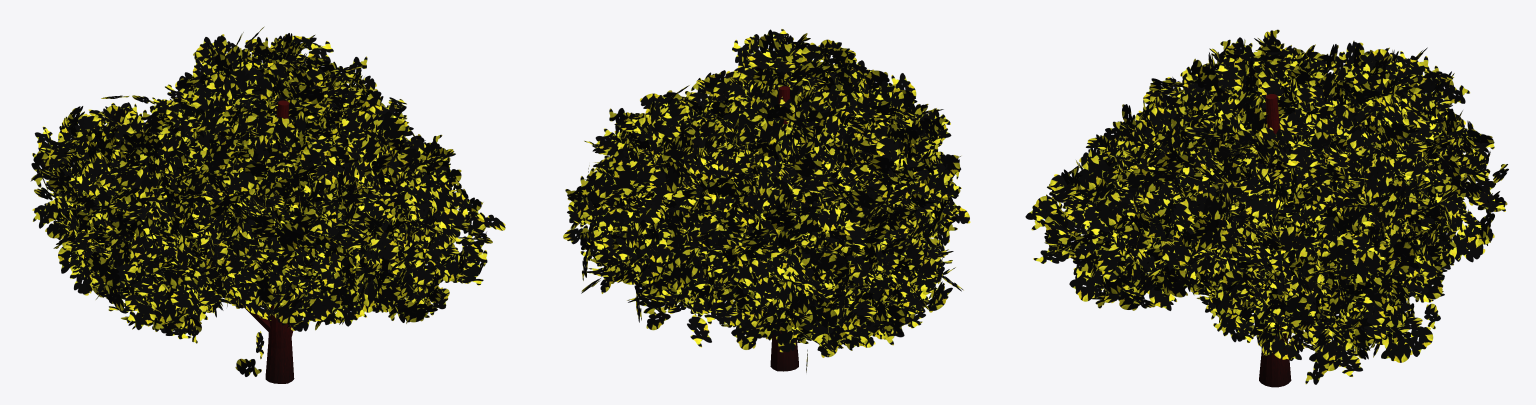
Rendered from understory_laurel_v03.glb.
3 views of the same model, side by side, from view 1: azimuth 30°, elevation 25°; view 2: azimuth 150°, elevation 25°; view 3: azimuth 270°, elevation 25° (orthographic). The views are drawn at different scales.
Visible parts, largest first — view 1: understory_laurel_v03; view 2: understory_laurel_v03; view 3: understory_laurel_v03.
Part boxes in pixels (x1,y1,x2,y2): understory_laurel_v03: (30, 26, 505, 383); understory_laurel_v03: (563, 29, 970, 372); understory_laurel_v03: (1025, 29, 1508, 387).
Bounding box in the file's own units: 8.86 × 6.89 × 9.69.
2 materials, 2 textured.
